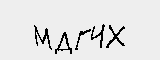Г: (73, 29, 90, 51)
Д: (54, 31, 73, 56)
М: (32, 25, 52, 51)
Х: (105, 24, 127, 51)
Ч: (88, 24, 105, 50)
